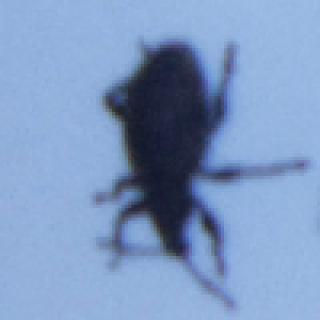bvw: (89, 35, 309, 315)
